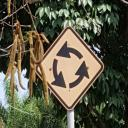Rotatoria: (35, 24, 105, 111)
